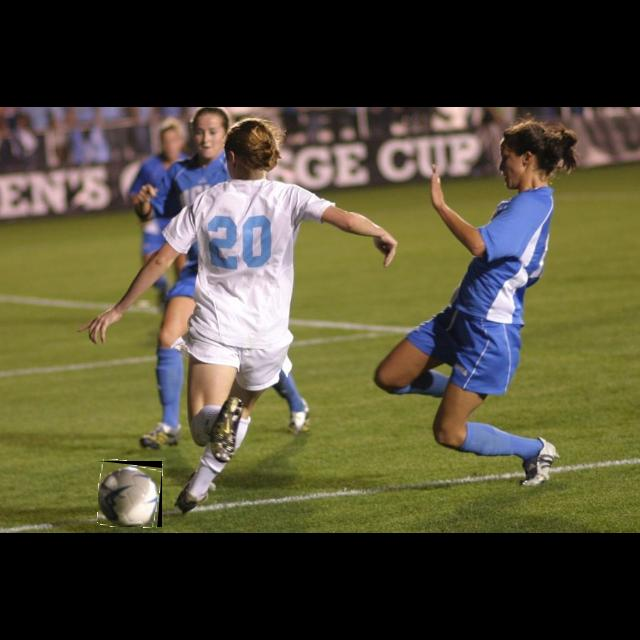Football: (98, 461, 162, 527)
